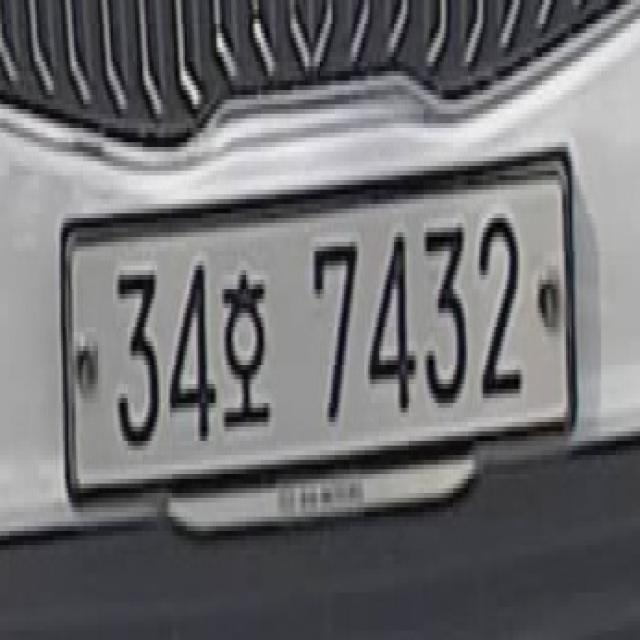2: (476, 208, 522, 408)
3: (422, 214, 470, 418), (113, 266, 163, 450)
4: (168, 261, 220, 450), (366, 232, 414, 412)
7: (312, 232, 360, 427)
ho: (218, 265, 272, 441)
license_plate: (61, 147, 579, 512)
